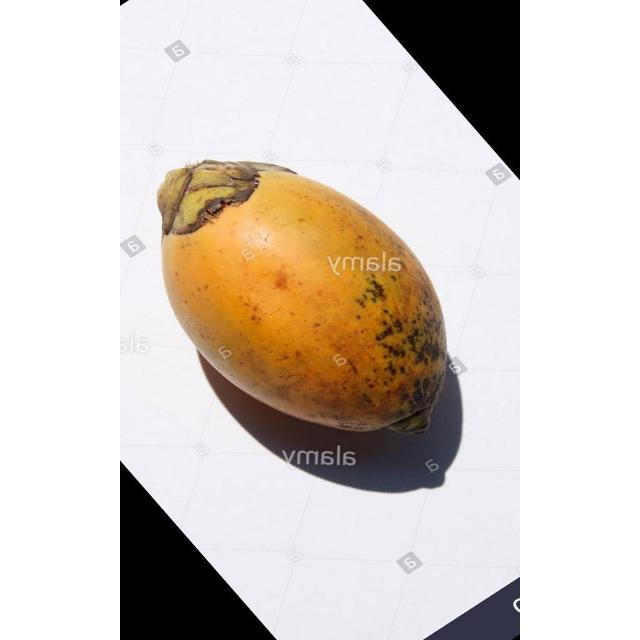good: (157, 161, 449, 436)
